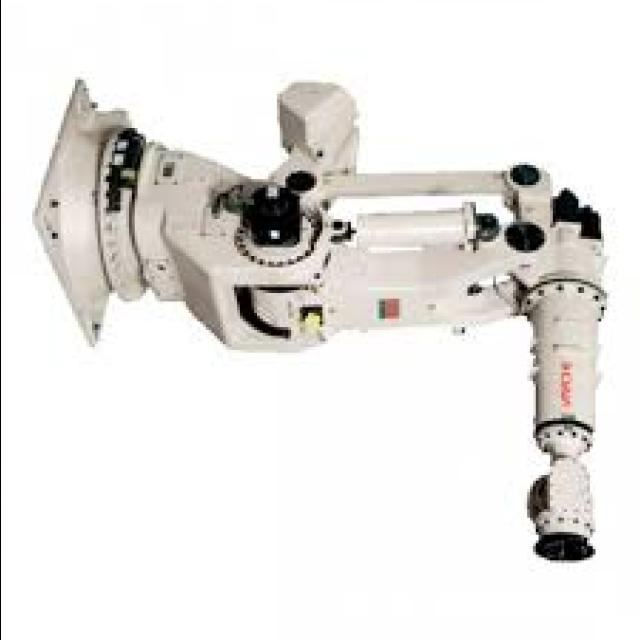Robotic-arm: (23, 61, 623, 571)
